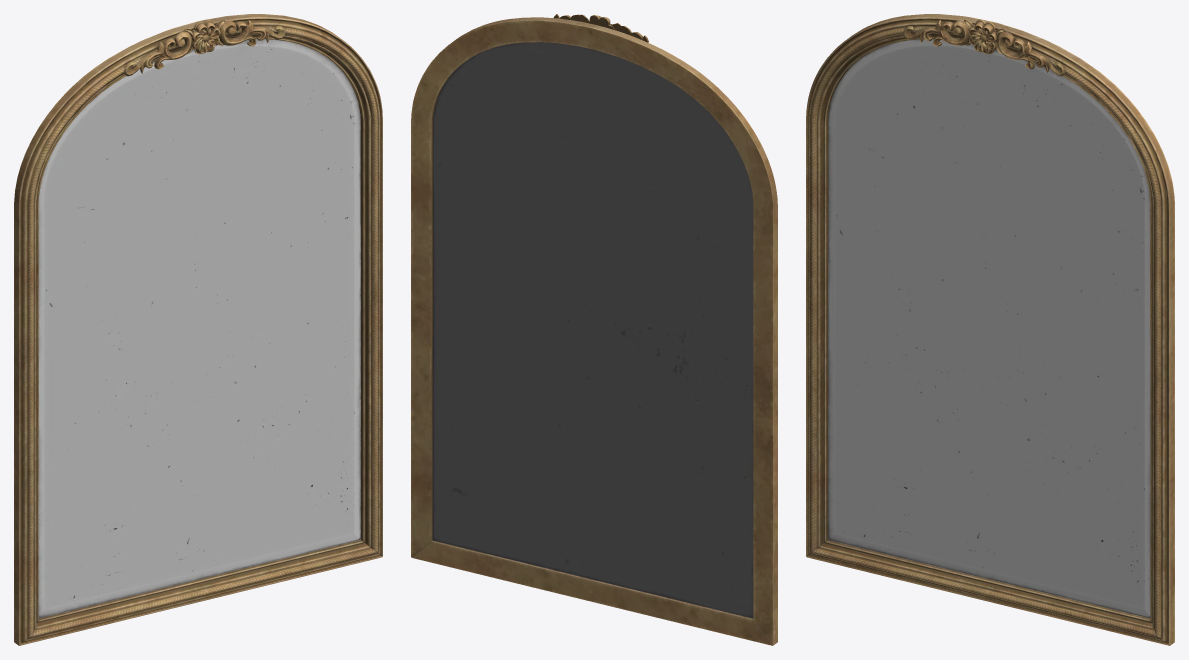
File: ornate_mirror_01.glb
The picture shows the model from 3 angles, left to right: view 1: azimuth 30°, elevation 25°; view 2: azimuth 150°, elevation 25°; view 3: azimuth 330°, elevation 25°; orthographic projection.
Visible parts, largest first — view 1: ornate_mirror_01; view 2: ornate_mirror_01; view 3: ornate_mirror_01.
Boxes of the visible parts, x1,y1,x2,y2 form: ornate_mirror_01: (14,14,382,645); ornate_mirror_01: (411,14,777,645); ornate_mirror_01: (806,14,1174,645).
Size of the model in its own units: 0.4865 by 0.7442 by 0.026.
1 material, 1 textured.
